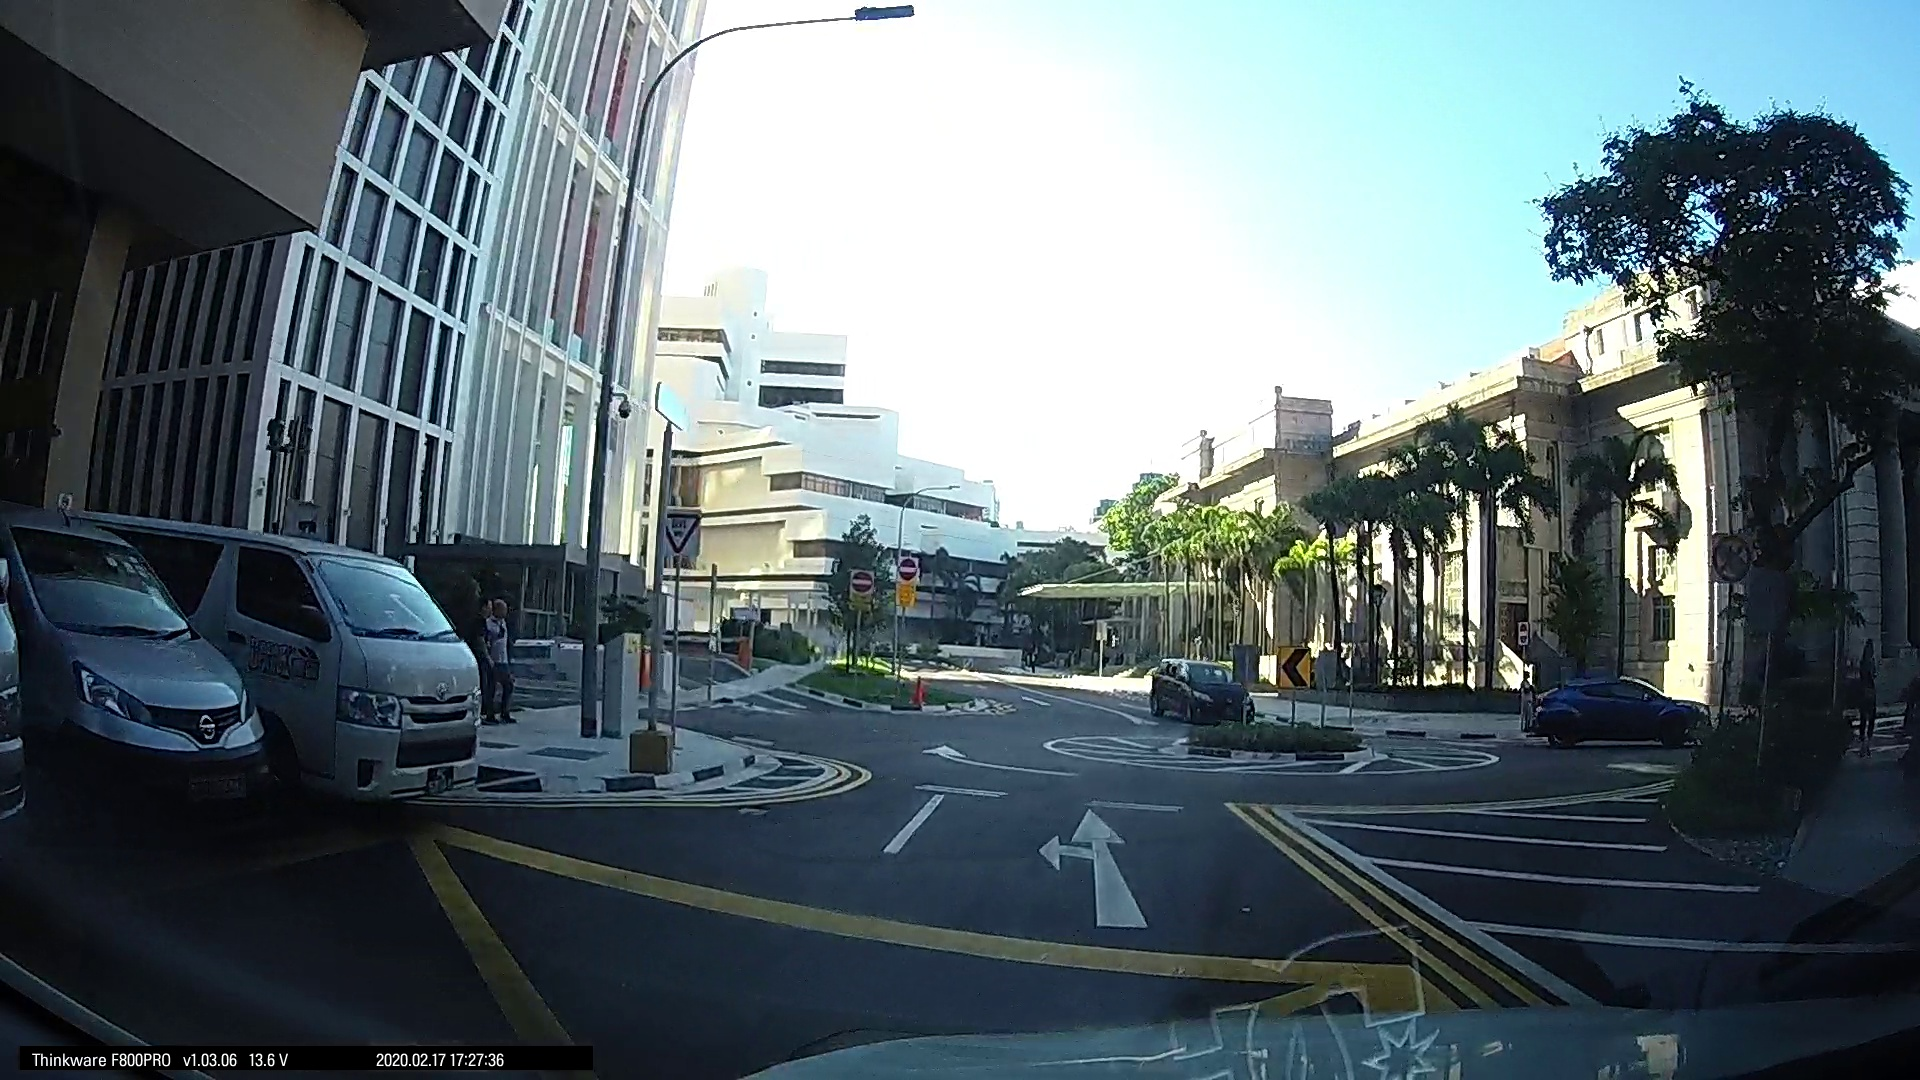Light Vehicle: (55, 516, 501, 814), (4, 512, 289, 808), (1520, 669, 1697, 746), (1145, 655, 1245, 727)
